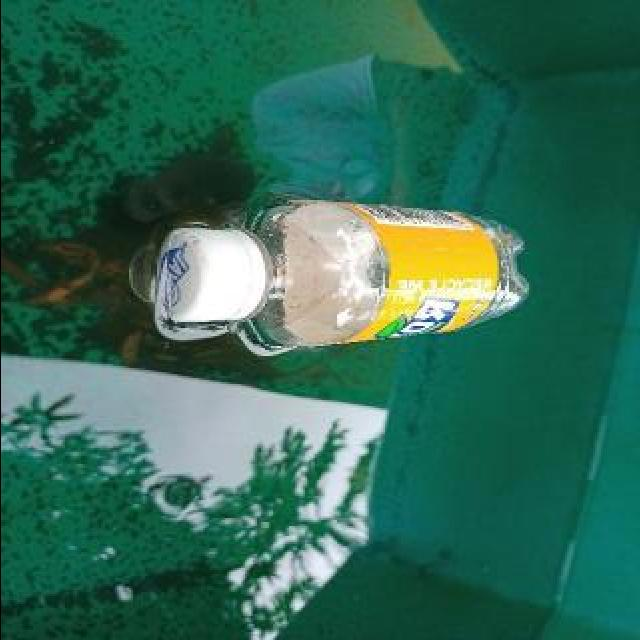Bottle: (154, 192, 536, 354)
